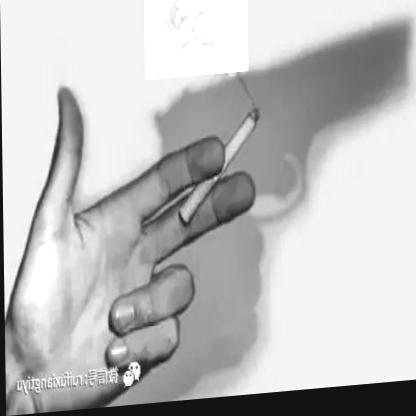smoke: (144, 0, 248, 83)
